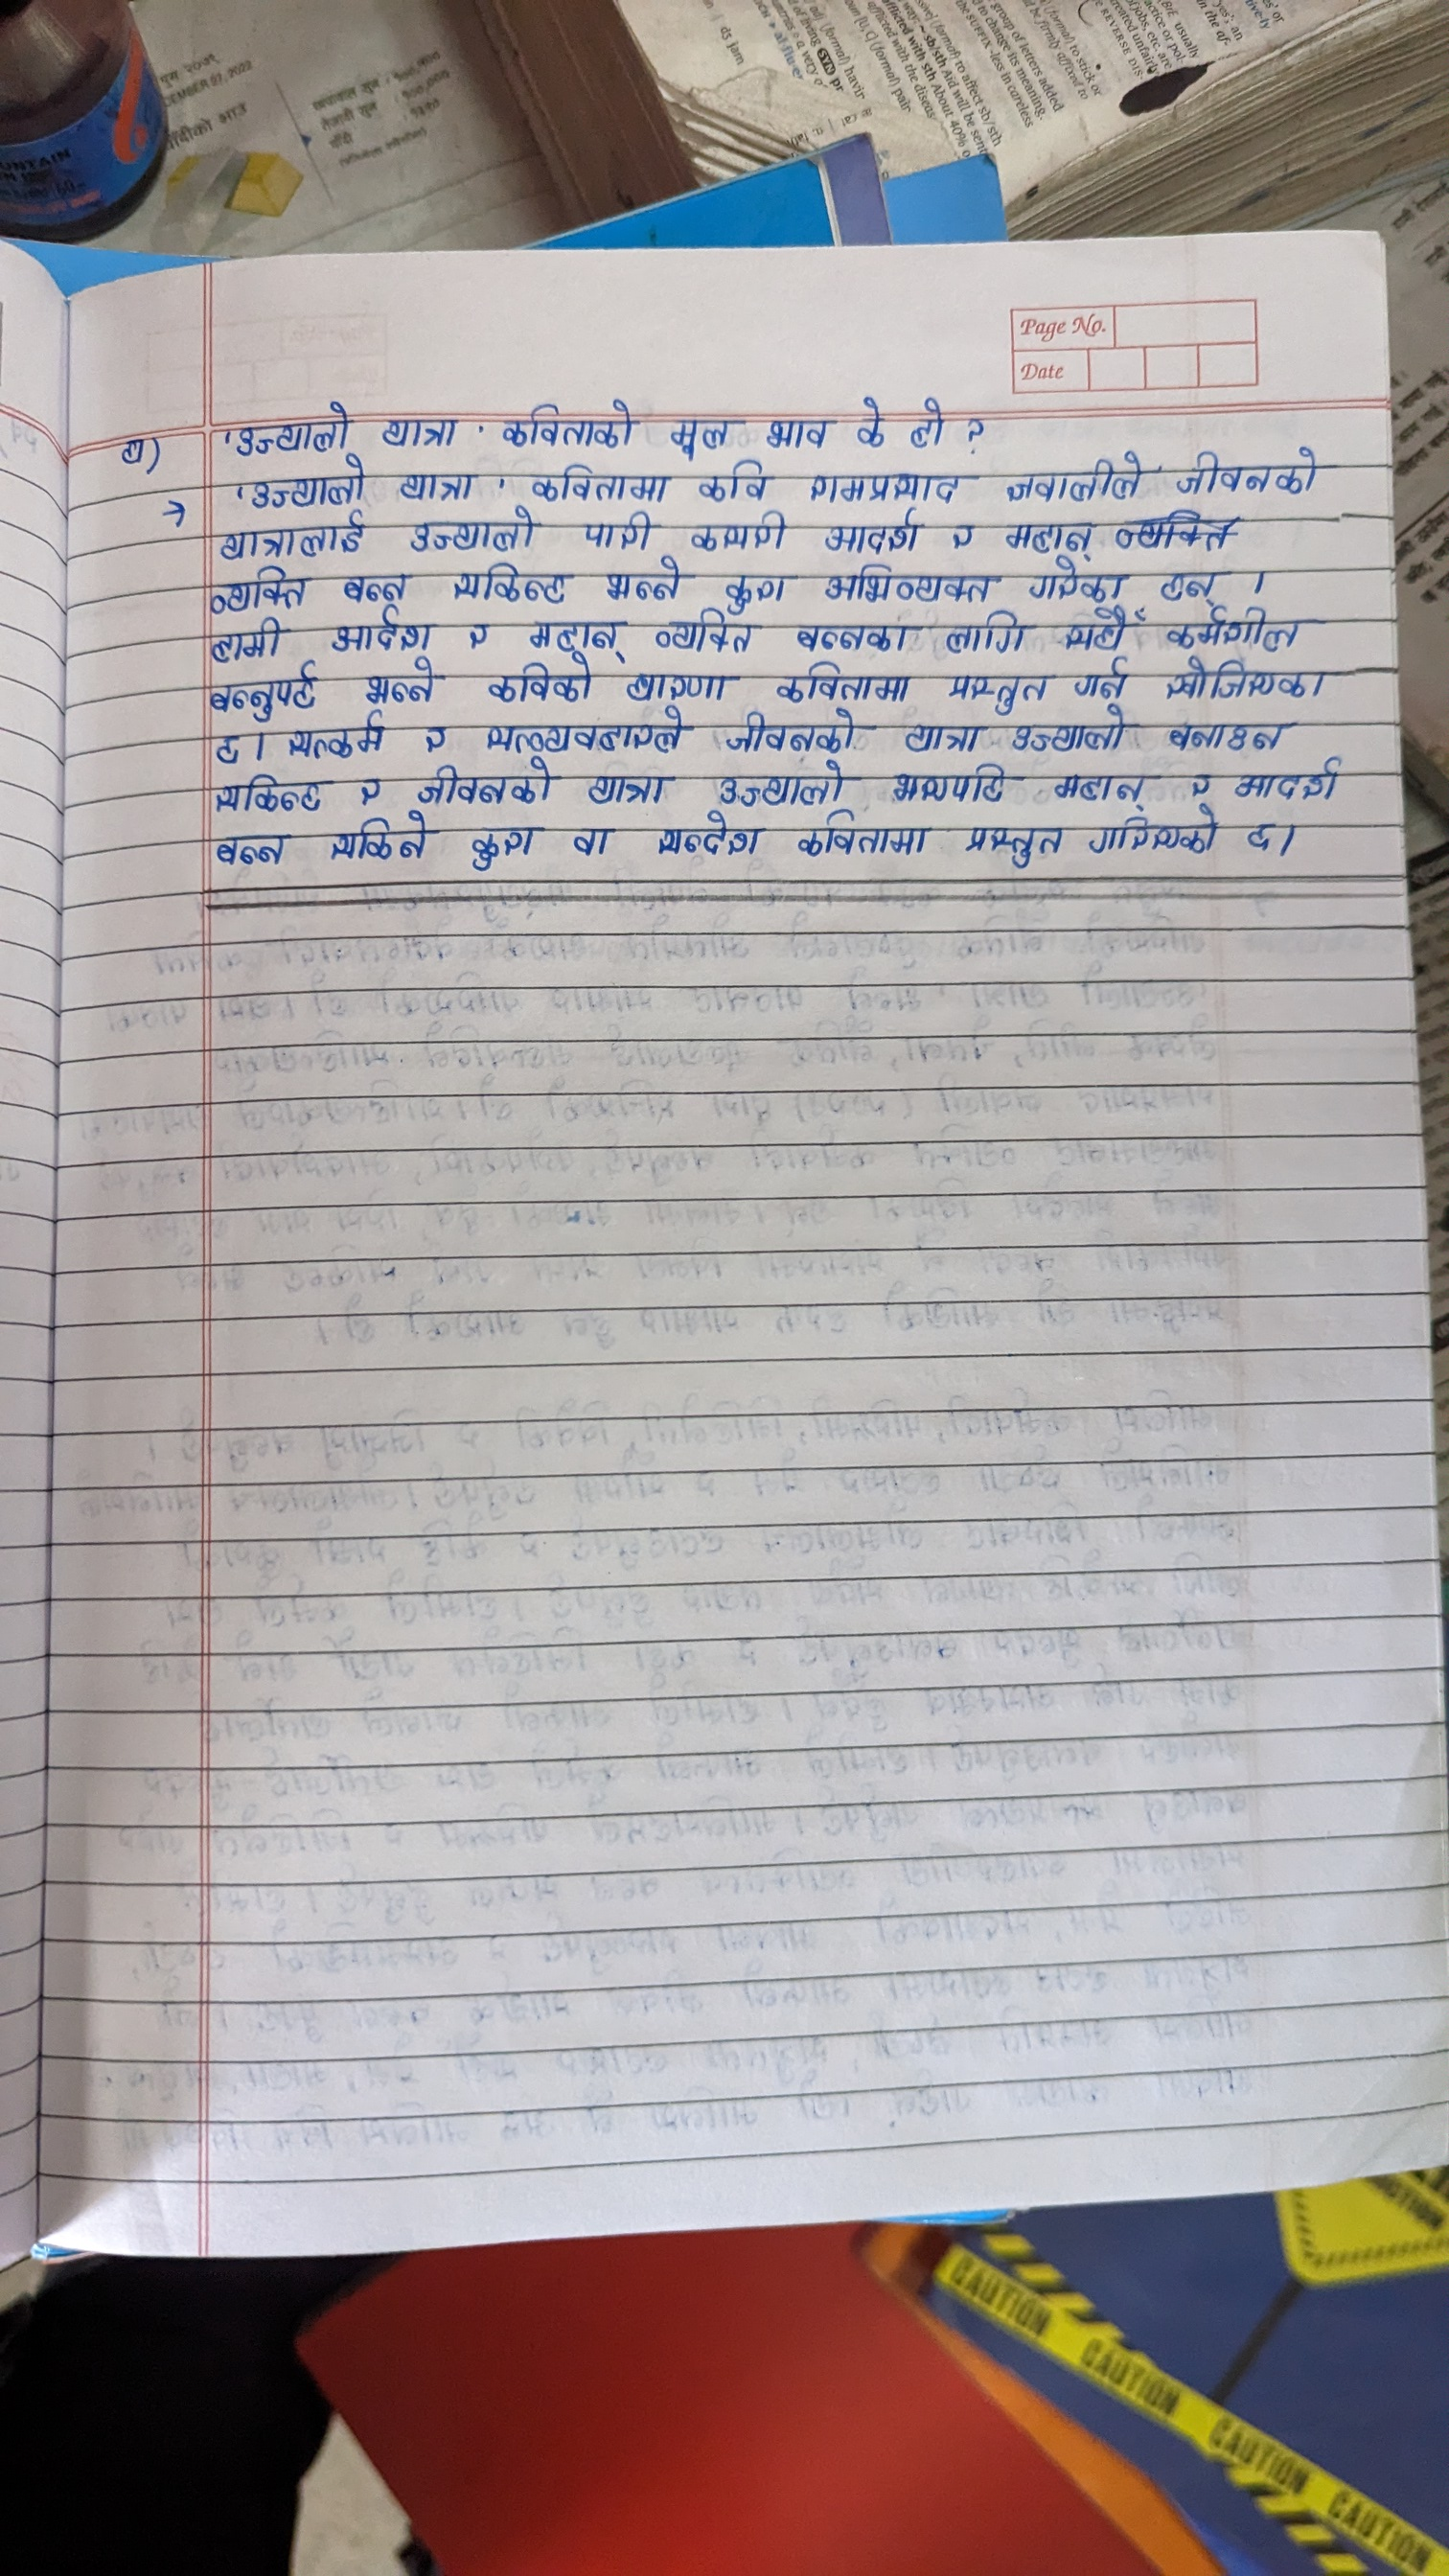text: (479, 708, 686, 755), (495, 393, 635, 453), (816, 559, 998, 603), (1085, 810, 1223, 865), (1001, 451, 1146, 502), (327, 812, 439, 878), (218, 511, 368, 559), (786, 810, 936, 858), (709, 757, 847, 807), (226, 400, 354, 453), (1177, 446, 1318, 492), (1159, 660, 1325, 699), (409, 508, 543, 556), (773, 662, 916, 706), (800, 464, 962, 502), (533, 465, 678, 508), (246, 458, 364, 510), (203, 669, 327, 717), (1164, 609, 1304, 649), (409, 764, 548, 805), (720, 715, 863, 754), (446, 561, 573, 603), (959, 821, 1063, 872), (890, 757, 1003, 803), (202, 563, 308, 610), (784, 616, 913, 655), (1235, 759, 1350, 801), (1008, 713, 1131, 752), (488, 658, 594, 702), (287, 722, 393, 766), (653, 814, 761, 856), (821, 506, 920, 552), (329, 609, 433, 651), (1063, 609, 1146, 660), (945, 671, 1053, 709), (649, 612, 752, 653), (688, 510, 782, 554), (1046, 771, 1157, 809), (209, 777, 326, 812), (936, 612, 1031, 655), (623, 667, 731, 704), (196, 616, 283, 662), (998, 517, 1099, 556), (1162, 718, 1284, 750), (1026, 561, 1136, 596), (518, 616, 628, 651), (395, 462, 478, 504), (603, 559, 681, 603), (366, 658, 437, 706), (573, 510, 649, 552), (768, 409, 839, 453), (699, 462, 770, 506), (212, 828, 292, 867), (467, 824, 533, 870), (901, 718, 984, 754), (908, 389, 954, 453), (375, 416, 462, 449), (853, 386, 895, 453), (584, 775, 672, 807), (722, 566, 791, 607), (329, 570, 410, 602), (665, 421, 734, 456), (1155, 566, 1224, 600), (1069, 662, 1132, 697), (1246, 814, 1286, 858), (205, 731, 248, 770), (111, 425, 149, 469), (570, 819, 614, 856), (941, 517, 980, 552), (349, 775, 386, 807), (462, 617, 492, 653), (418, 720, 448, 755), (1185, 766, 1212, 794)
